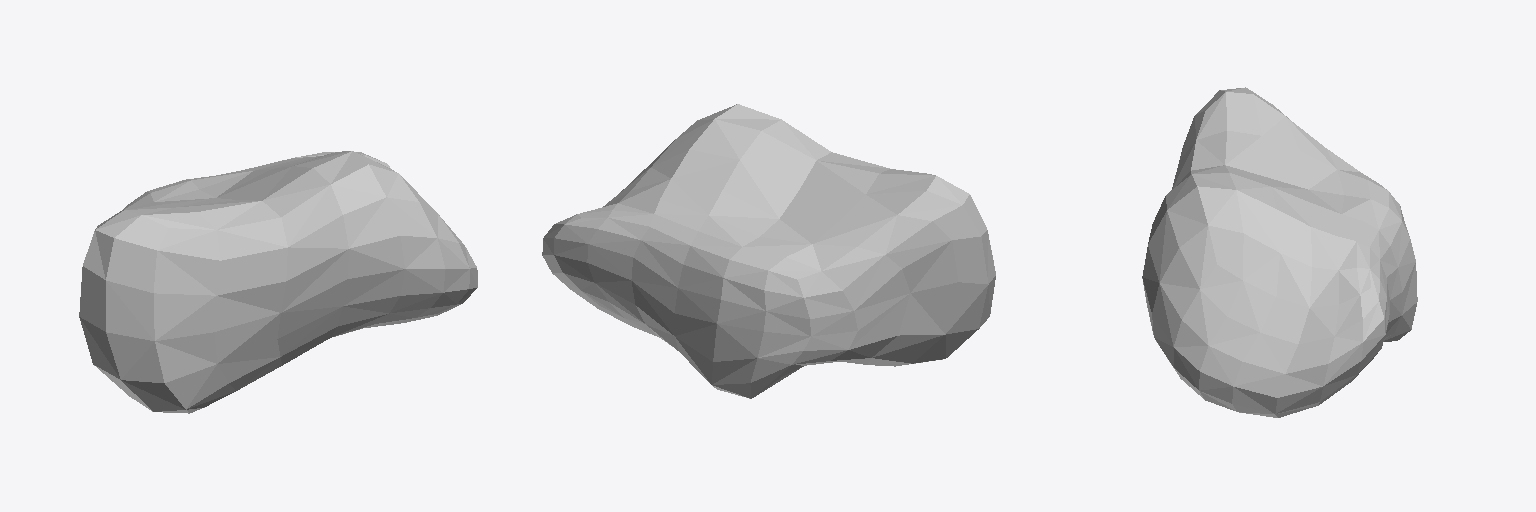
File: asteroid_03.obj
The picture shows the model from 3 angles: view 1: azimuth 30°, elevation 25°; view 2: azimuth 150°, elevation 25°; view 3: azimuth 270°, elevation 25°; orthographic projection.
Parts seen in each view (by area): view 1: asteroid3_Cube.003; view 2: asteroid3_Cube.003; view 3: asteroid3_Cube.003.
Boxes of the visible parts, box(x1,y1,x2,y2) form: asteroid3_Cube.003: box(79, 151, 477, 413); asteroid3_Cube.003: box(542, 104, 995, 398); asteroid3_Cube.003: box(1142, 87, 1417, 417).
Bounding box in the file's own units: 1717 × 863 × 1031.